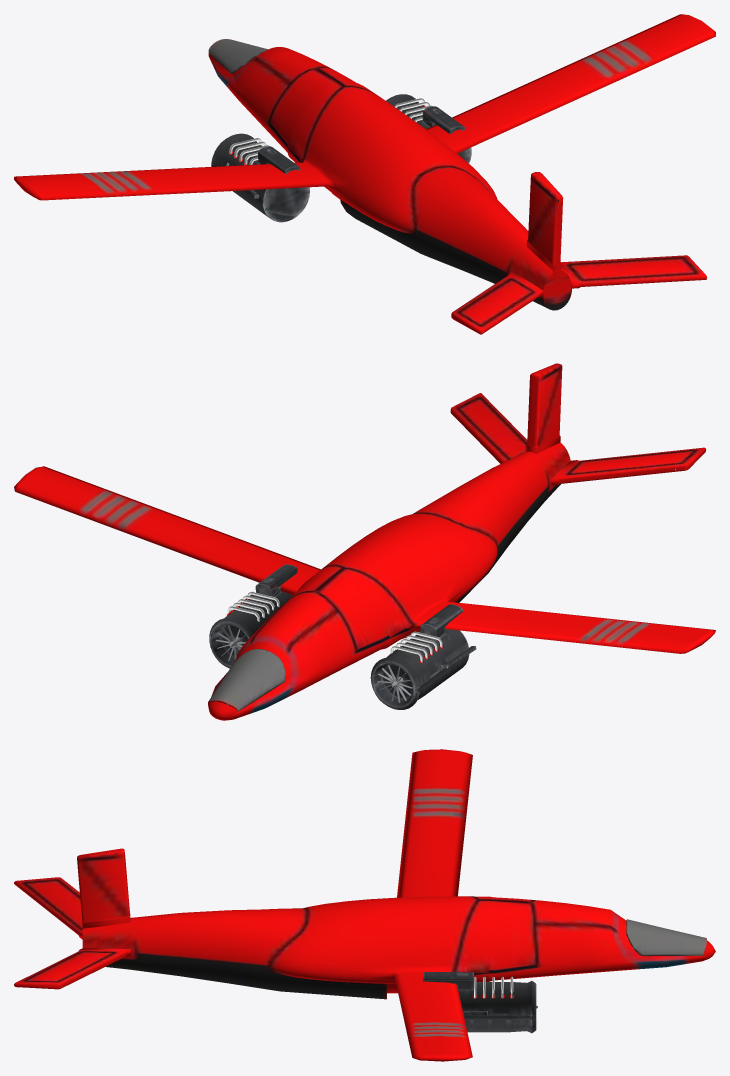
Rendered from private-jet.lod0.glb.
The picture shows the model from 3 angles, top to bottom: view 1: azimuth 30°, elevation 25°; view 2: azimuth 150°, elevation 25°; view 3: azimuth 270°, elevation 25°; orthographic projection. The views are drawn at different scales.
Parts seen in each view (by area): view 1: Sphere001_Unwrap Texture Checker Material_0; view 2: Sphere001_Unwrap Texture Checker Material_0; view 3: Sphere001_Unwrap Texture Checker Material_0.
Boxes of the visible parts, box(x1,y1,x2,y2) form: Sphere001_Unwrap Texture Checker Material_0: box(14, 14, 715, 334); Sphere001_Unwrap Texture Checker Material_0: box(14, 363, 715, 720); Sphere001_Unwrap Texture Checker Material_0: box(14, 749, 715, 1061).
Bounding box in the file's own units: 20 × 4.36 × 19.23.
Materials: 1 (1 with a texture image).
